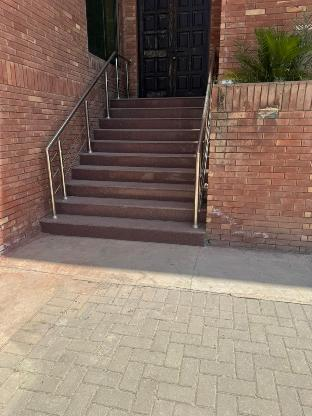stair: (82, 94, 198, 236)
